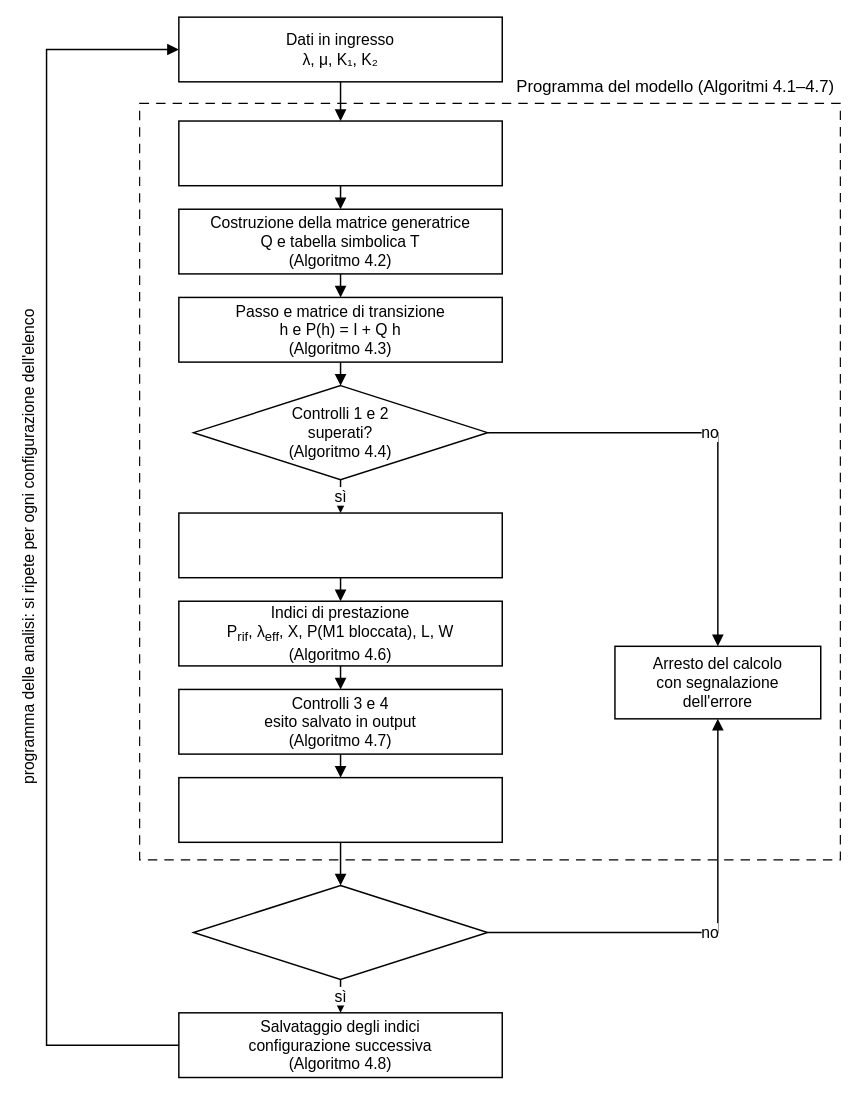
The diagram is 858 pixels wide and 1096 high, and some of its shapes have lost their labels. The centre of each missing label's shape, as x and y in pixels:
"Convergenza p(n) = p(n − 1) P(h) fino a π (Algoritmo 4.5)" goes at point (340, 545).
"Generazione degli stati lista S degli n stati (Algoritmo 4.1)" goes at point (340, 153).
"Risultati della configurazione π, indici, esito dei controlli" goes at point (340, 809).
"Tutti i controlli superati? (Algoritmo 4.8)" goes at point (340, 932).
